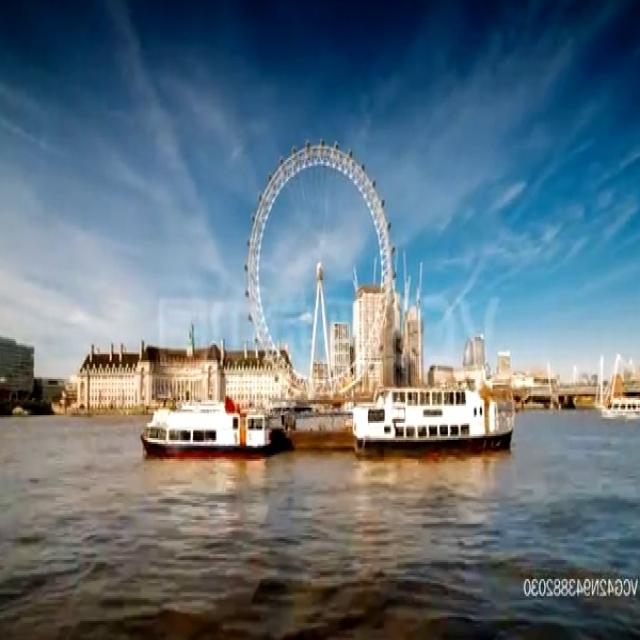passenger ship: (356, 377, 514, 452), (144, 397, 272, 452), (601, 381, 640, 421)
